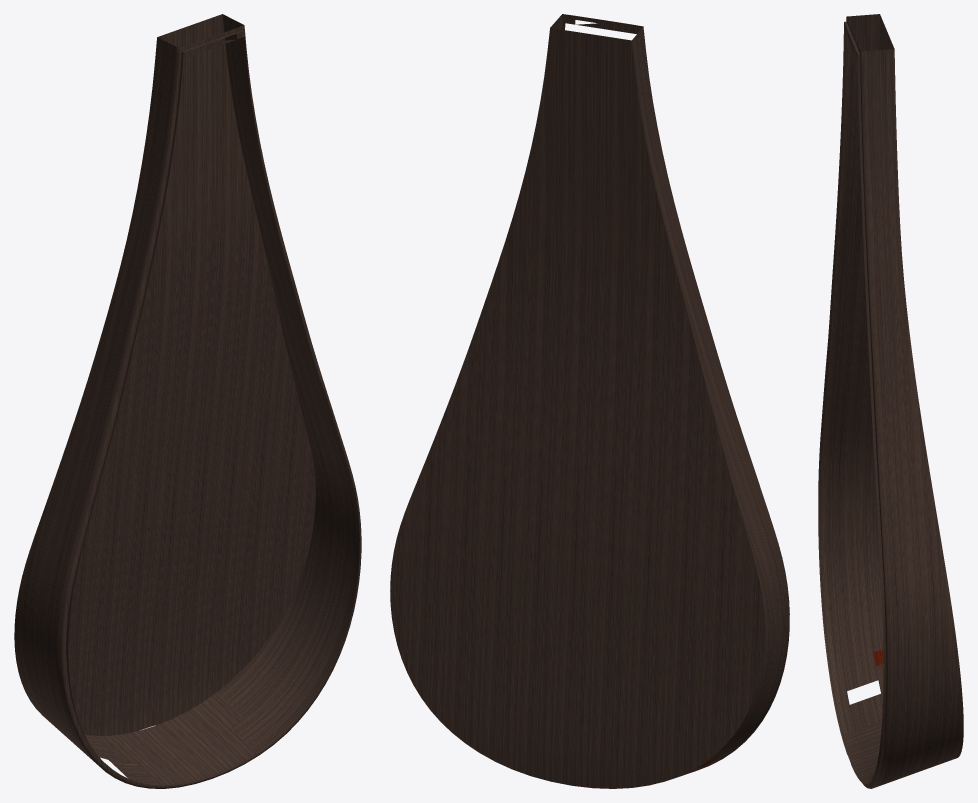
The picture shows the model from 3 angles, left to right: view 1: azimuth 30°, elevation 25°; view 2: azimuth 150°, elevation 25°; view 3: azimuth 270°, elevation 25°; orthographic projection. The views are drawn at different scales.
Parts seen in each view (by area): view 1: 背板; view 2: 背板; view 3: 背板.
Part boxes in pixels (x1,y1,x2,y2): 背板: [14, 14, 361, 788]; 背板: [390, 14, 789, 788]; 背板: [818, 14, 963, 788].
Bounding box in the file's own units: 260 × 535 × 96.24.
Materials: 2 (2 with a texture image).
